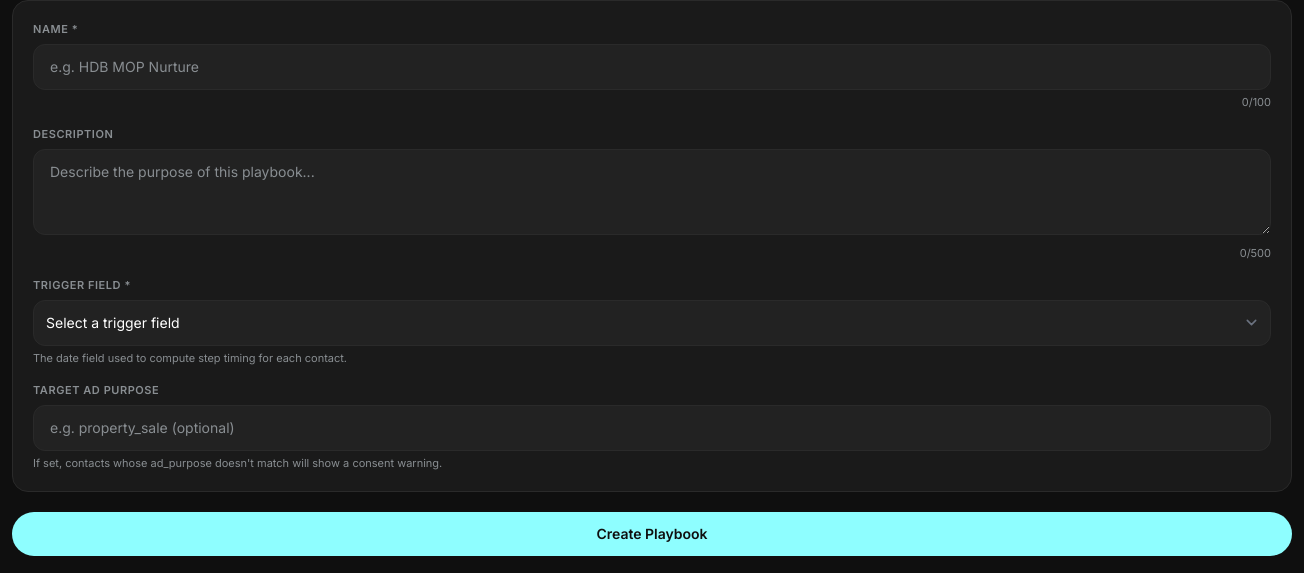
Test: PlaybookForm › shows character count for description field
Expected: the text "0/500" is shown, [1240, 244, 1271, 261]
Type "A short desc" into the text box labelled "Description".
click(652, 192); type("A short desc")  # box [33, 148, 1271, 234]
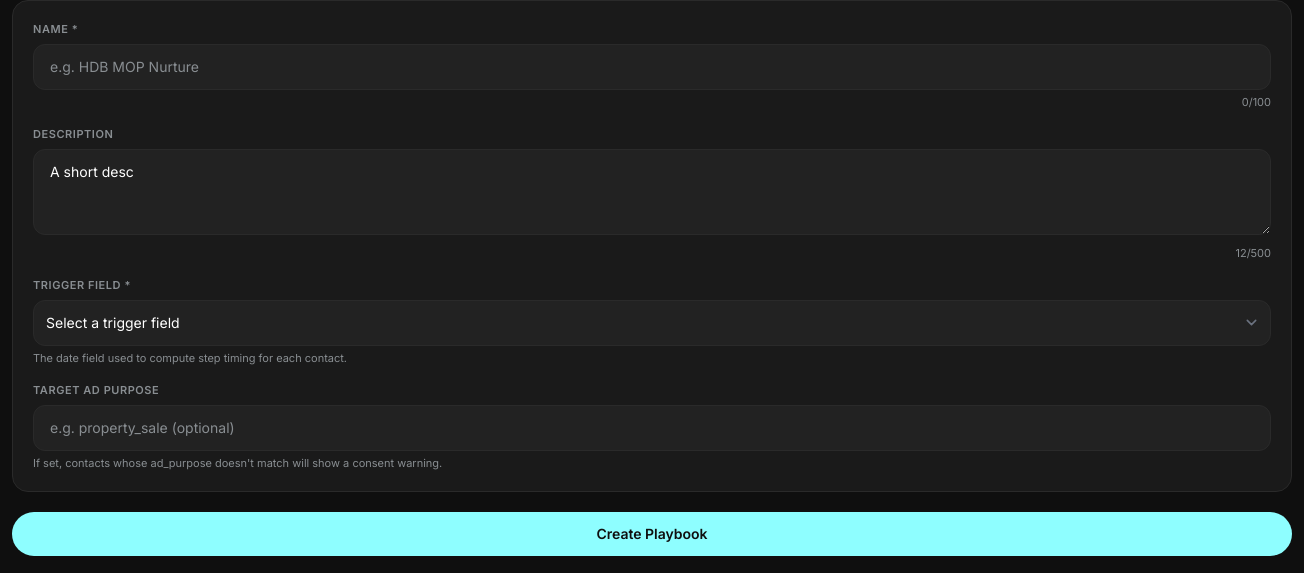
Result: the text "12/500" is shown at [1235, 244, 1271, 261]
